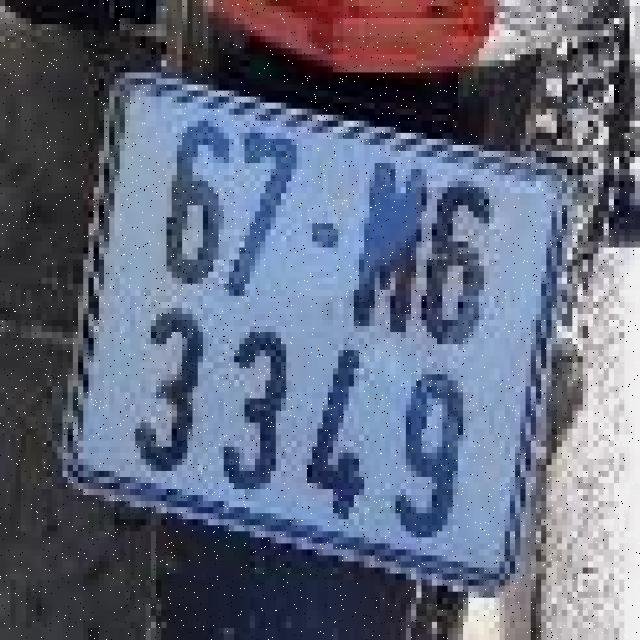3: (218, 320, 292, 501), (135, 293, 208, 474)
4: (304, 317, 378, 528)
6: (426, 157, 499, 350), (161, 111, 224, 286)
7: (229, 118, 302, 317)
9: (388, 351, 471, 544)
M: (346, 151, 429, 344)
